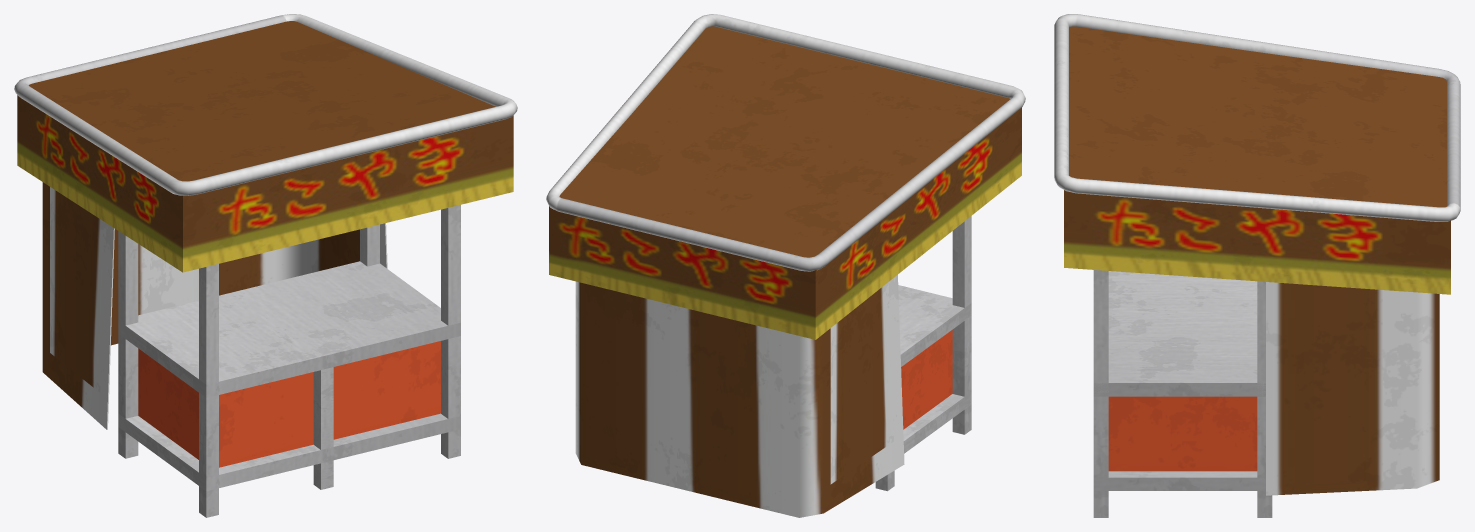
The model's file is SM_Yatai_04.fbx.
3 views of the same model, side by side, from view 1: azimuth 30°, elevation 25°; view 2: azimuth 150°, elevation 25°; view 3: azimuth 270°, elevation 25° (orthographic). The views are drawn at different scales.
Parts seen in each view (by area): view 1: SM_Yatai_04; view 2: SM_Yatai_04; view 3: SM_Yatai_04.
Boxes of the visible parts, bbox=[...] form: SM_Yatai_04: bbox=[14, 14, 517, 517]; SM_Yatai_04: bbox=[546, 14, 1025, 517]; SM_Yatai_04: bbox=[1054, 14, 1460, 517].
Size of the model in its own units: 27.15 by 26.65 by 27.28.
